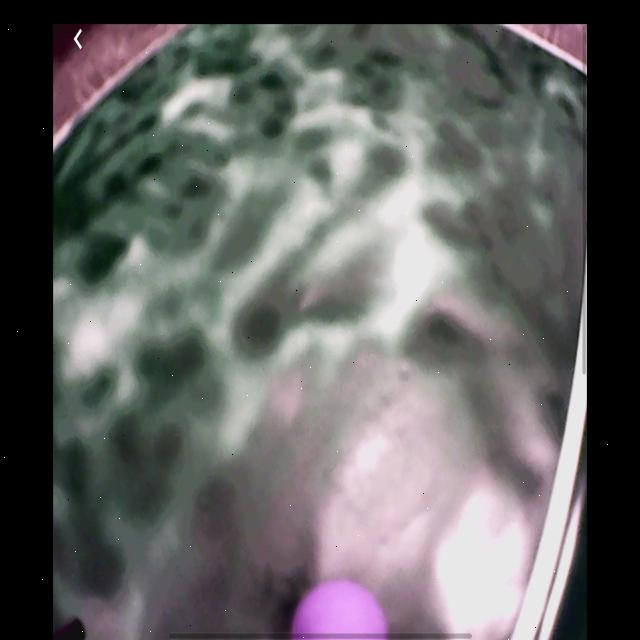ball: (291, 579, 385, 635)
